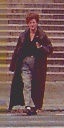person: (13, 10, 49, 117)
